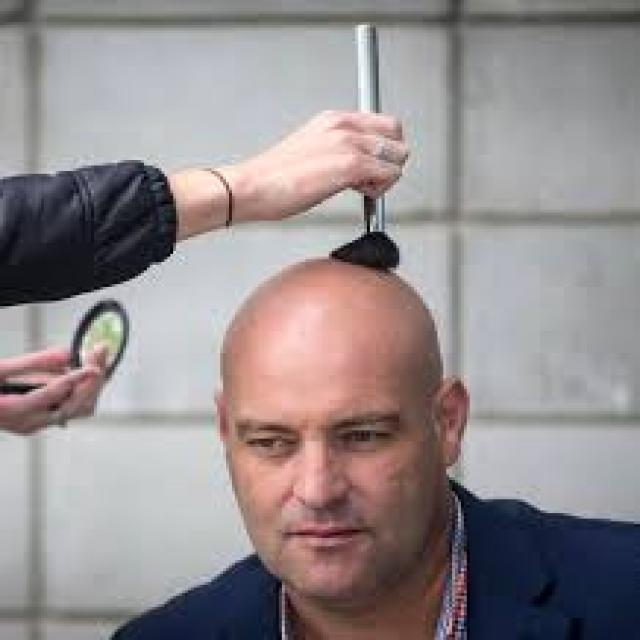bald: (204, 252, 463, 411)
